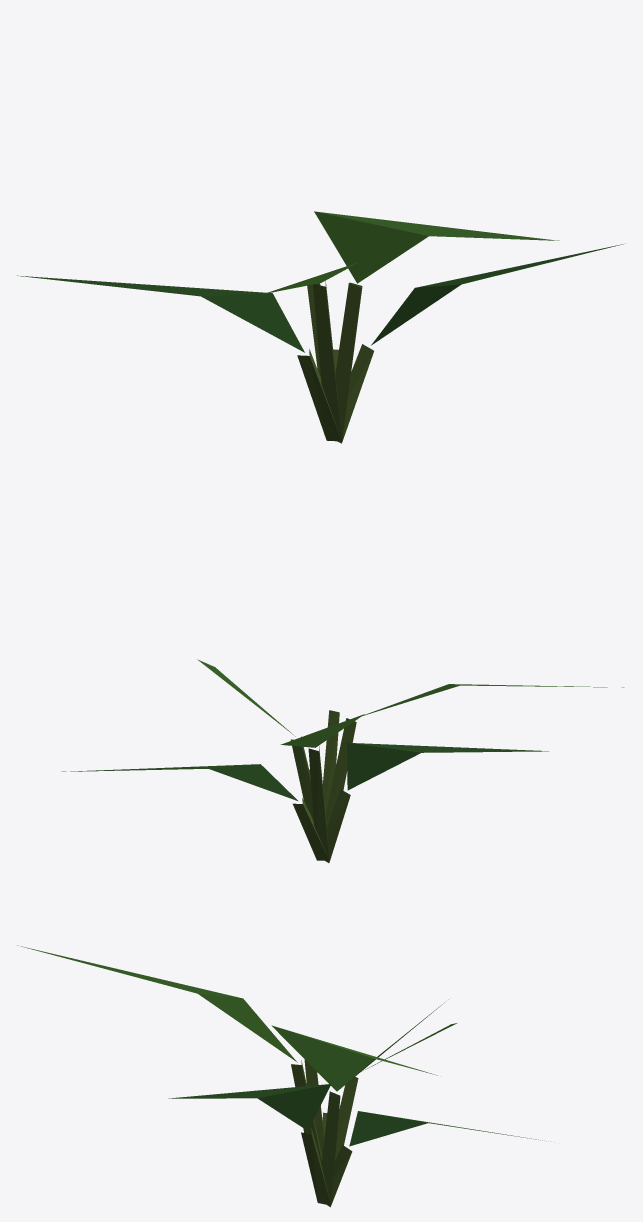
The model's file is cover-bush.glb.
3 views of the same model, one above another, from view 1: azimuth 30°, elevation 25°; view 2: azimuth 150°, elevation 25°; view 3: azimuth 270°, elevation 25° (orthographic). The views are drawn at different scales.
Visible parts, largest first — view 1: cover-bush; view 2: cover-bush; view 3: cover-bush.
Boxes of the visible parts, bbox=[...] form: cover-bush: bbox=[17, 211, 623, 443]; cover-bush: bbox=[61, 659, 624, 862]; cover-bush: bbox=[17, 945, 546, 1207].
Bounding box in the file's own units: 1.65 × 0.8447 × 1.71.
